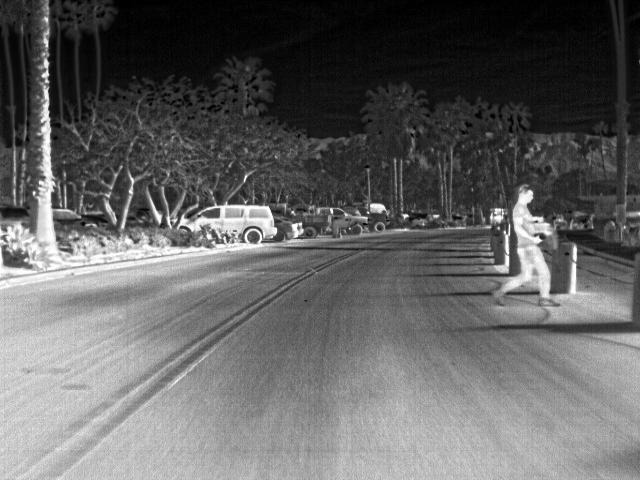car: (190, 202, 274, 246), (52, 205, 104, 227), (326, 206, 368, 232), (299, 208, 327, 237), (276, 212, 304, 241), (1, 204, 27, 224), (369, 211, 389, 232), (409, 211, 432, 229), (490, 206, 507, 226), (453, 213, 468, 226)
person: (510, 182, 553, 309)
